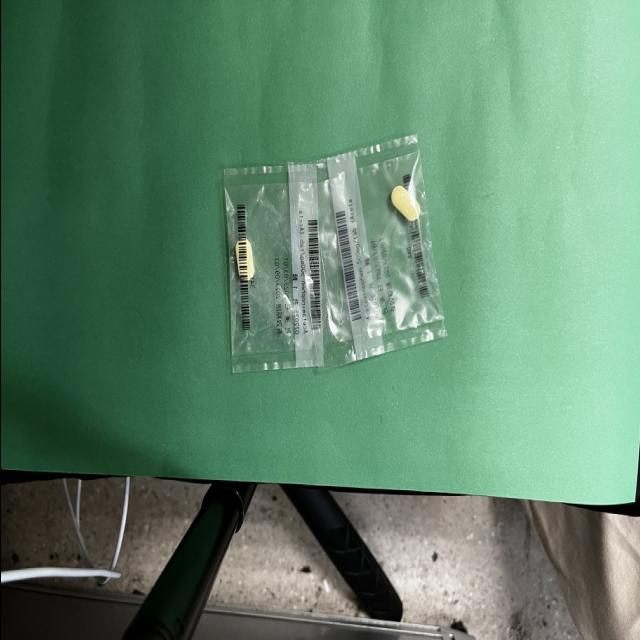Other Objects: (222, 136, 446, 373)
